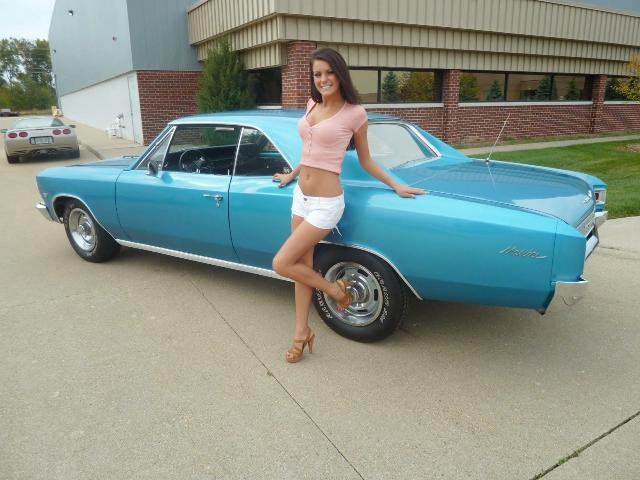chevelle-1972: (36, 104, 608, 342)
